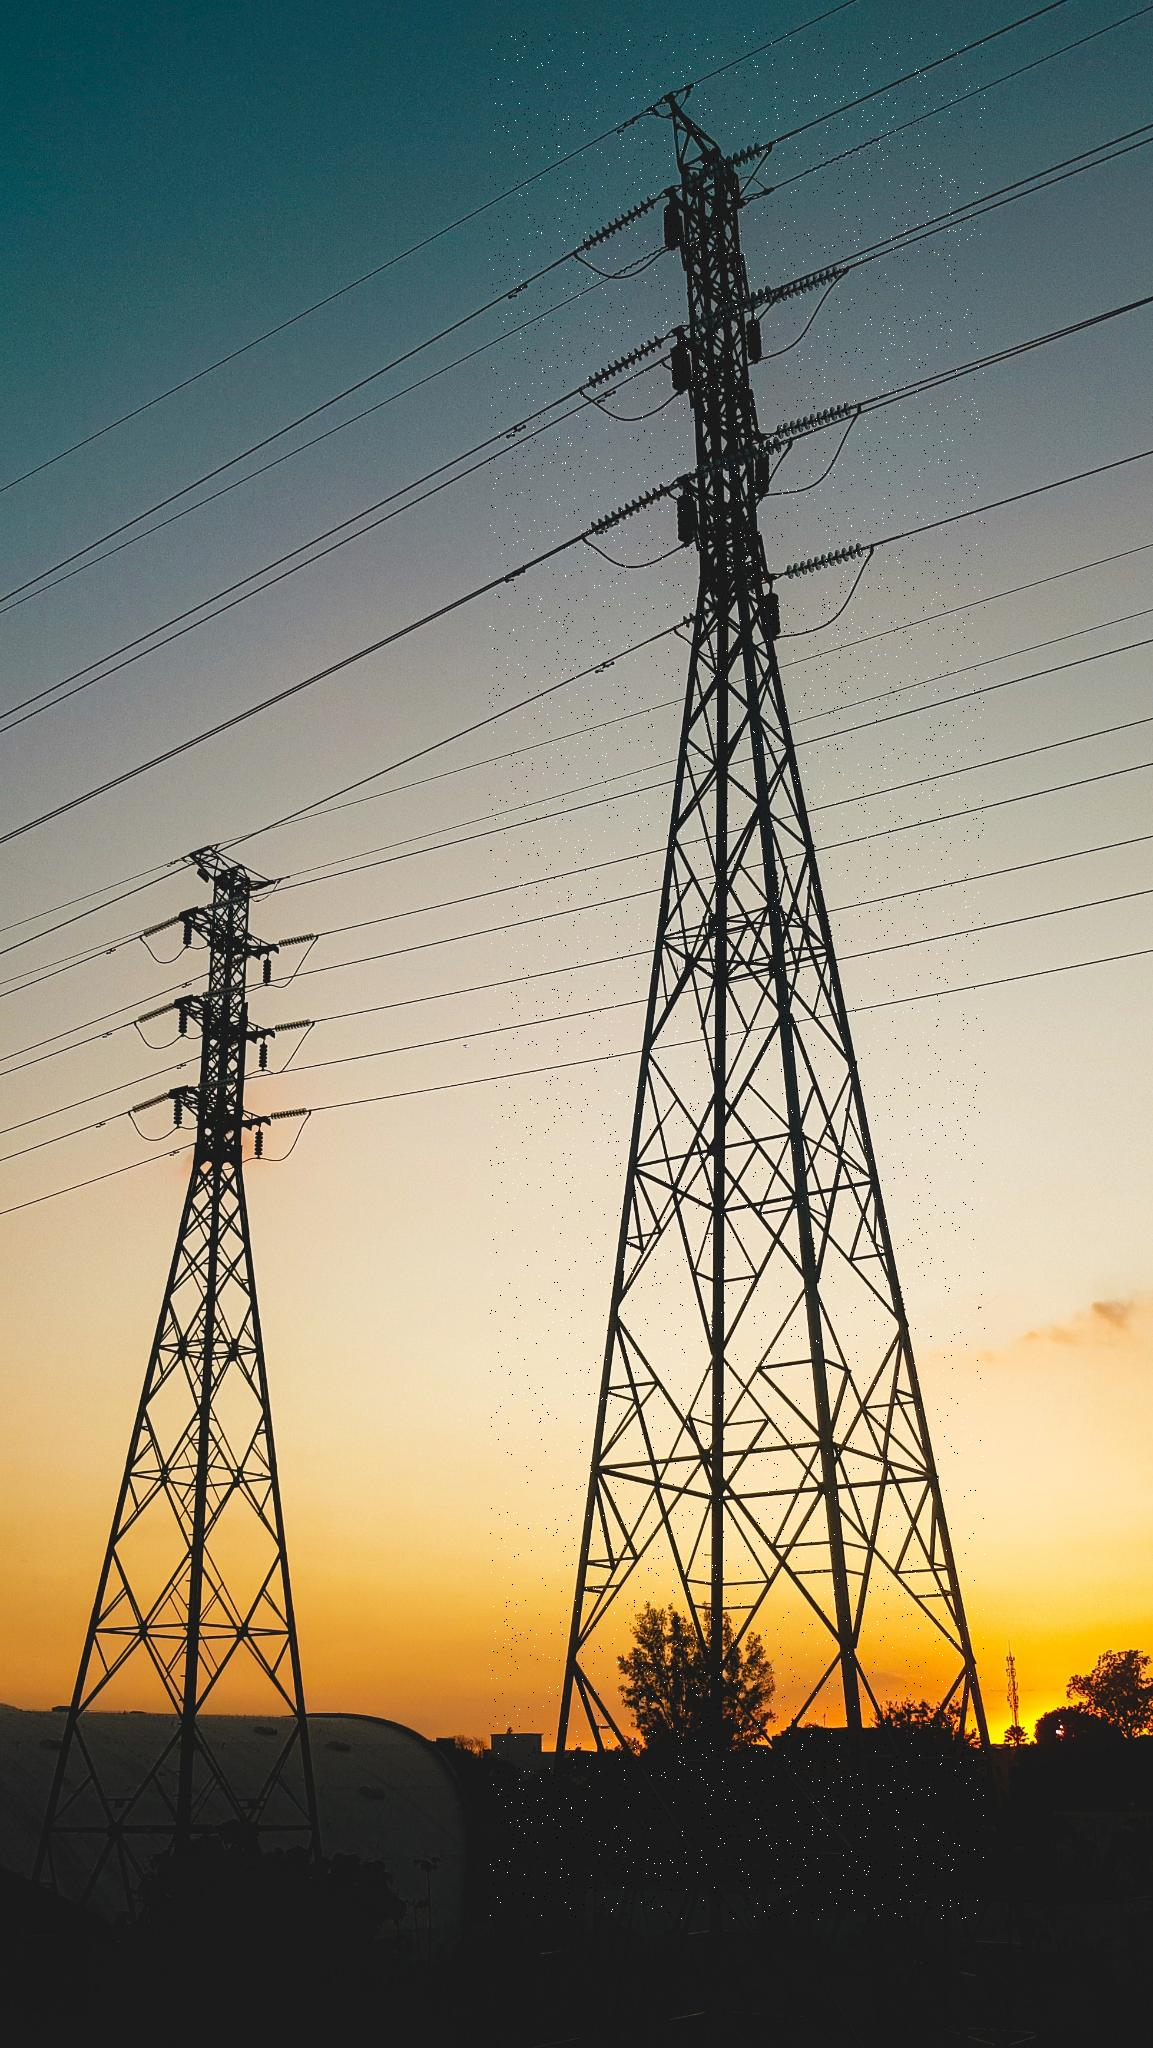cable tower: (489, 30, 986, 1920), (1, 837, 328, 1941)
